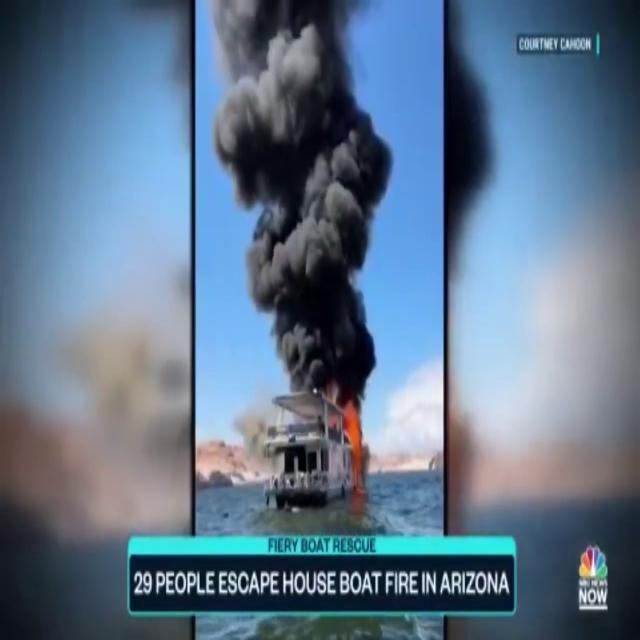Fire: (341, 396, 366, 480)
Smoke: (208, 0, 394, 396)
